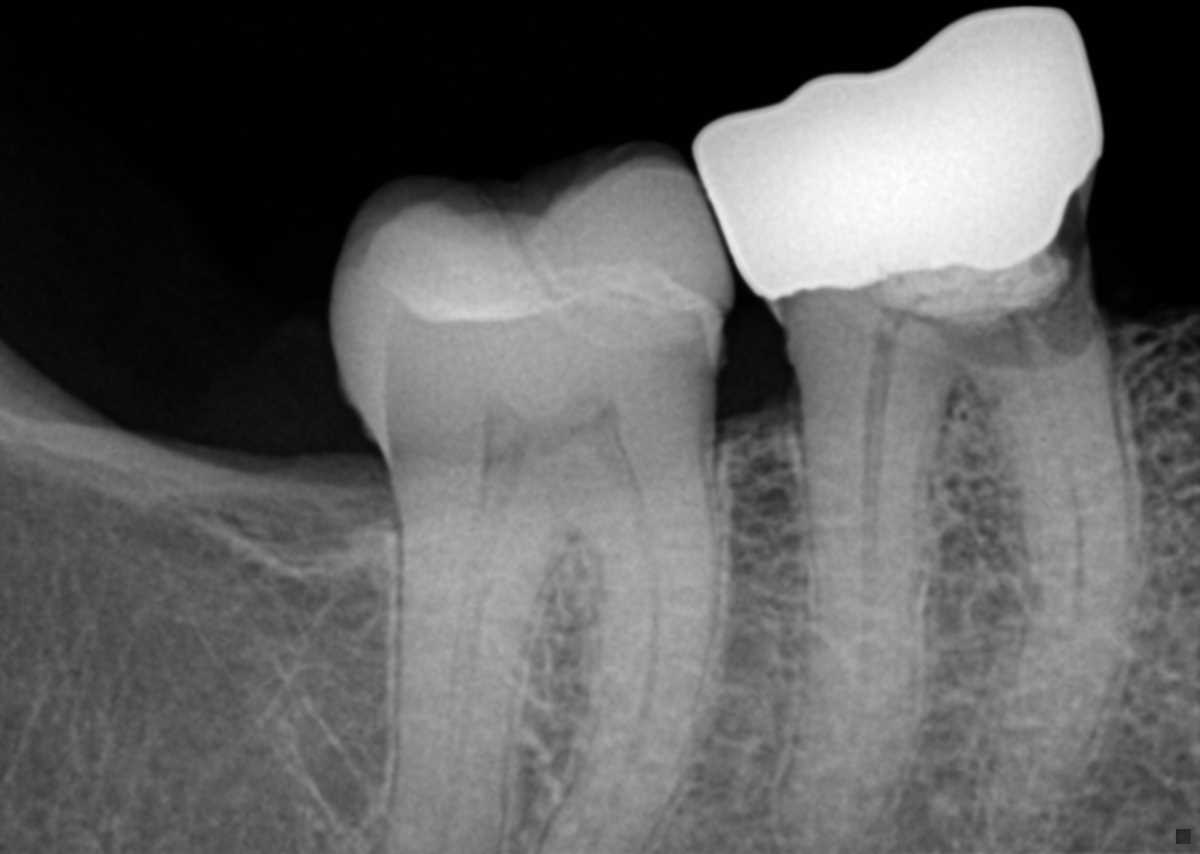Distal Canal: (834, 398, 888, 814), (443, 522, 499, 845)
Distal Root: (772, 394, 947, 852), (381, 515, 562, 854)
Mesial Canal: (591, 498, 664, 854), (1047, 421, 1084, 636)
Mesial Root: (980, 344, 1139, 806), (532, 464, 719, 854)
decay: (873, 246, 1095, 370)
